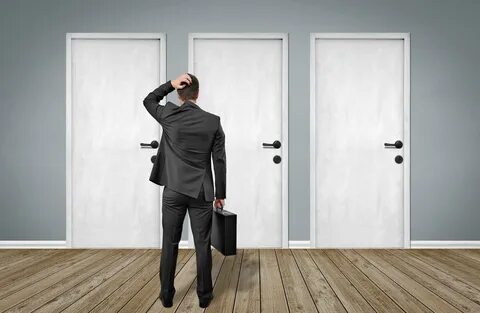awake: (141, 71, 227, 308)
